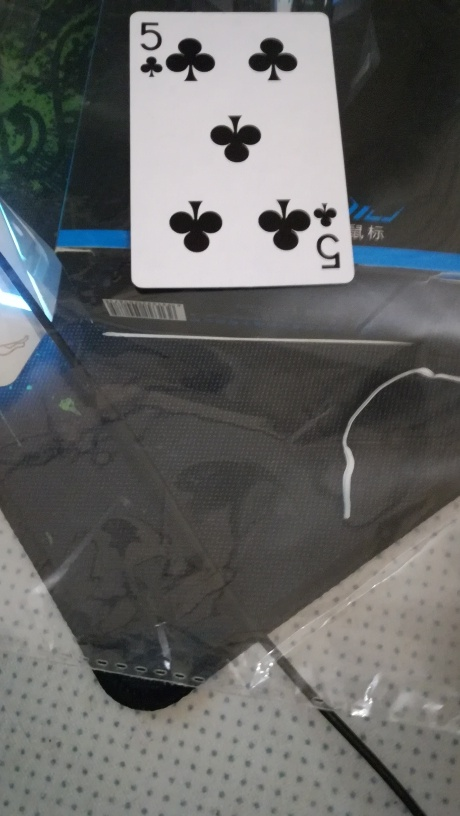mh 5: (122, 7, 366, 287)
